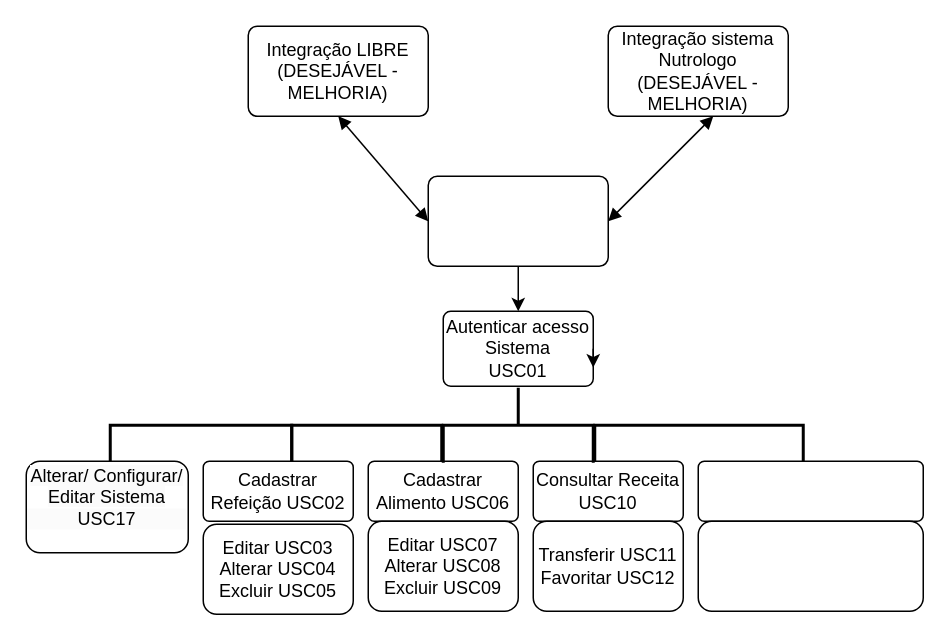
The diagram is 950 pixels wide and 641 high, and some of its shapes have lost their labels. The centre of each missing label's shape, as x and y in pixels:
"Aplicativo DIAVITTAL" goes at pixel 517 220.
"Emitir Relatórios USC13" goes at pixel 810 490.
"Relatorio Alimento USC14 Relatorio Refeição USC15 Relatório Receitas USC16" goes at pixel 810 565.
